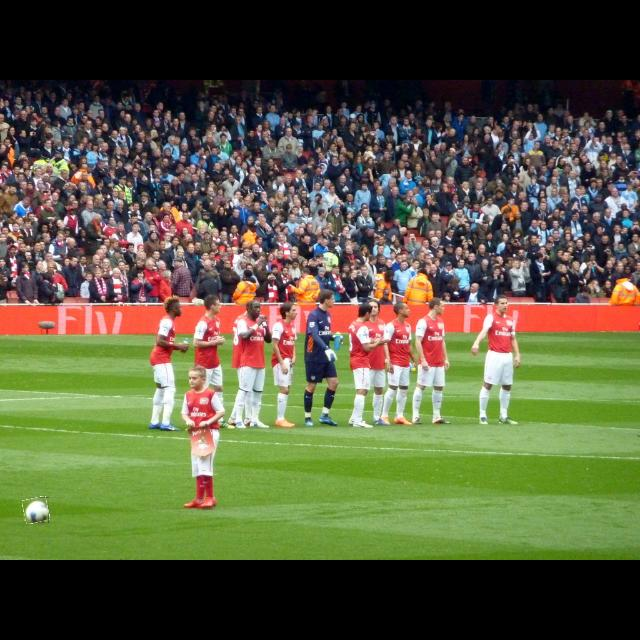Football: (23, 497, 49, 523)
